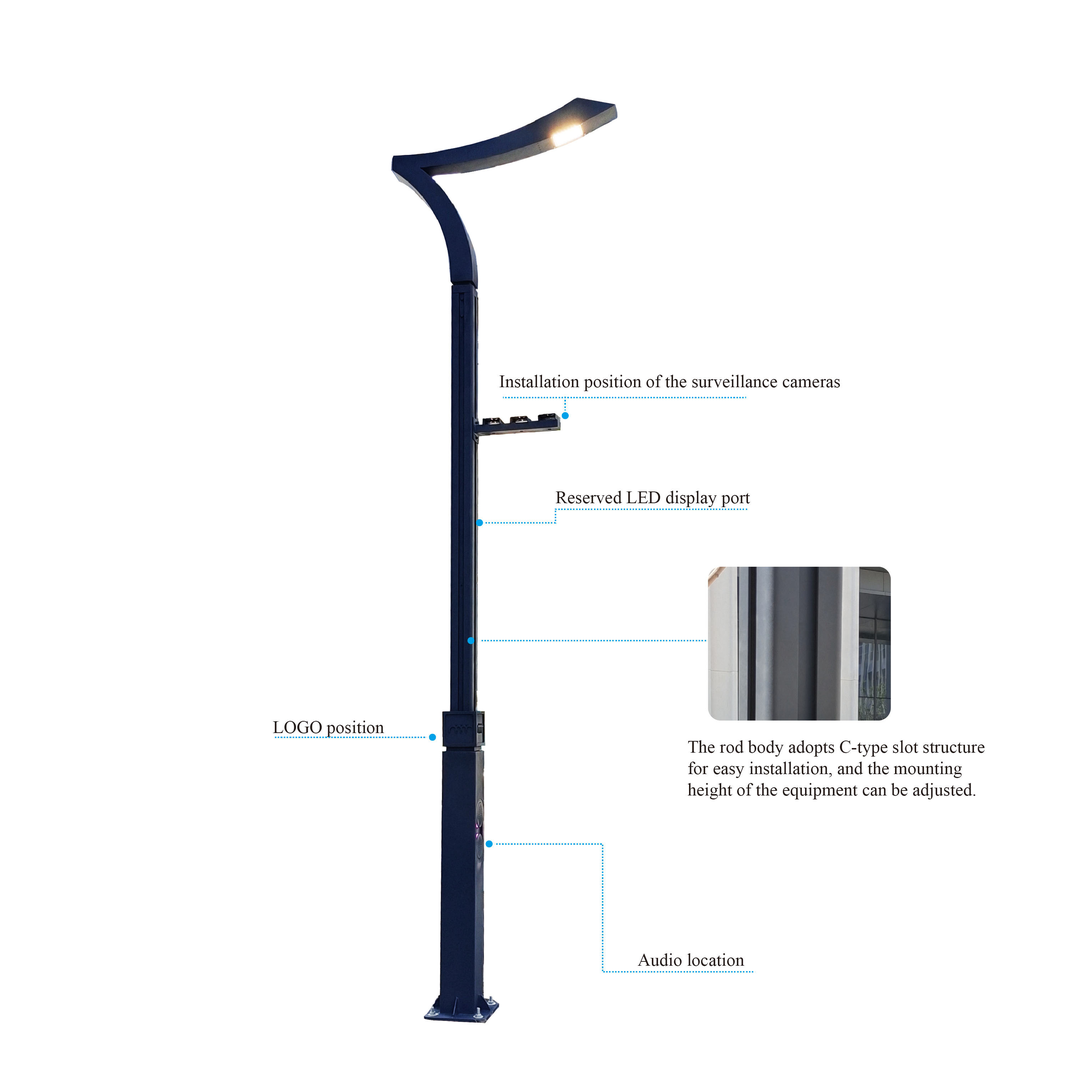light_pole: (406, 158, 512, 1024)
